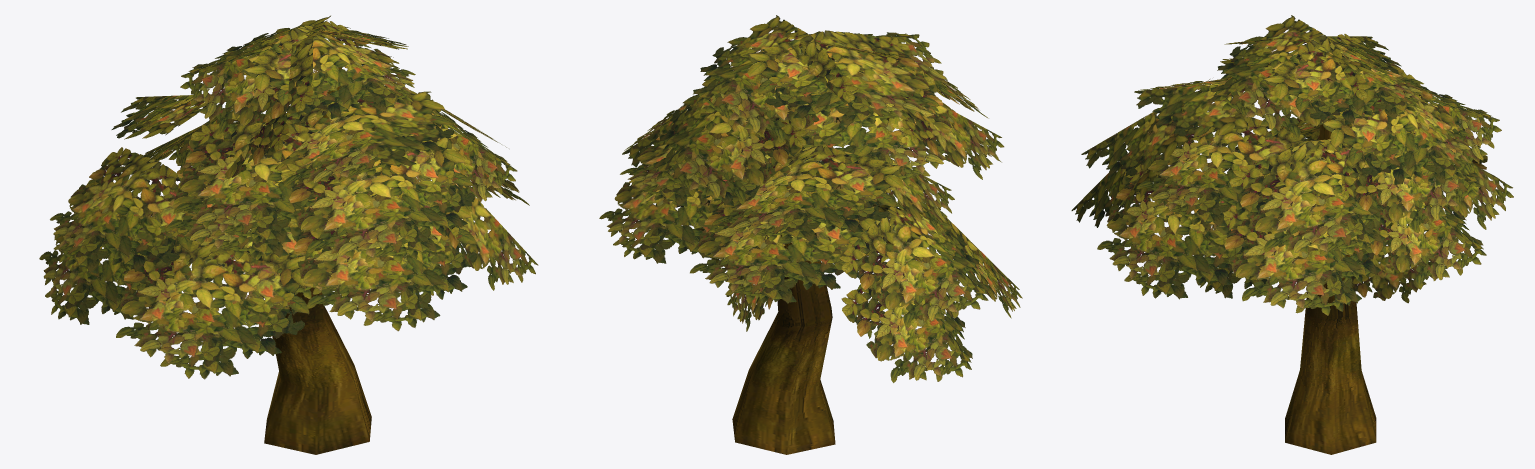
The model's file is obj_macoprtr02.glb.
3 renders of one model, left to right at view 1: azimuth 30°, elevation 25°; view 2: azimuth 150°, elevation 25°; view 3: azimuth 270°, elevation 25°, orthographic. The views are drawn at different scales.
Visible parts, largest first — view 1: part_0; view 2: part_0; view 3: part_0.
Part boxes in pixels (box(x1,y1,x2,y2)): part_0: box(39, 15, 538, 454); part_0: box(599, 15, 1022, 454); part_0: box(1071, 15, 1513, 454).
Bounding box in the file's own units: 7.59 × 7.02 × 7.53.
2 materials, 2 textured.
